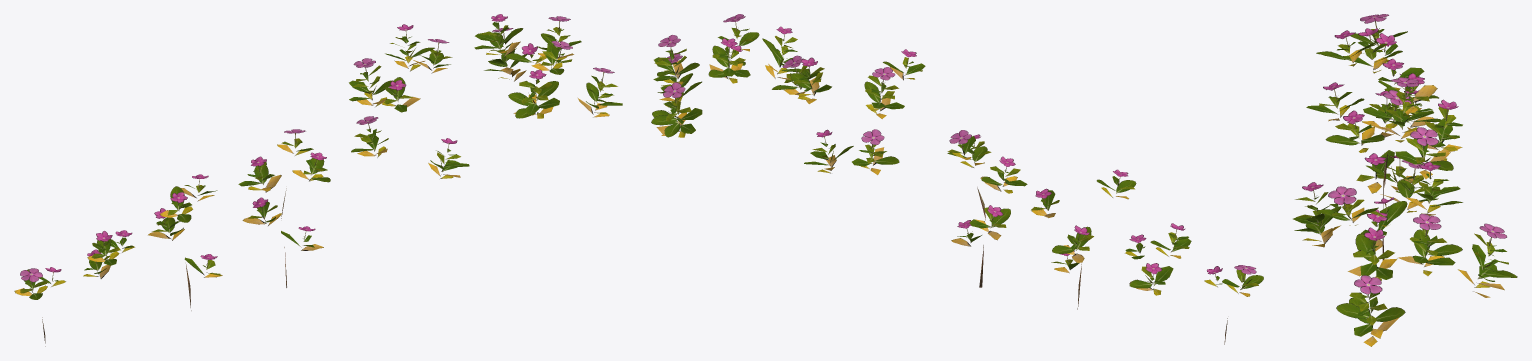
Rendered from ph_periwinkle_plant.glb.
3 views of the same model, side by side, from view 1: azimuth 30°, elevation 25°; view 2: azimuth 150°, elevation 25°; view 3: azimuth 270°, elevation 25° (orthographic). The views are drawn at different scales.
Visible parts, largest first — view 1: periwinkle_plant_01_LOD0, periwinkle_plant_02_LOD0, periwinkle_plant_03_LOD0, periwinkle_plant_04_LOD0, periwinkle_plant_05_LOD0, periwinkle_plant_06_LOD0; view 2: periwinkle_plant_01_LOD0, periwinkle_plant_02_LOD0, periwinkle_plant_03_LOD0, periwinkle_plant_04_LOD0, periwinkle_plant_05_LOD0, periwinkle_plant_06_LOD0; view 3: periwinkle_plant_01_LOD0, periwinkle_plant_02_LOD0, periwinkle_plant_03_LOD0, periwinkle_plant_04_LOD0, periwinkle_plant_05_LOD0, periwinkle_plant_06_LOD0.
Boxes of the visible parts, left/top/right/bottom form: periwinkle_plant_01_LOD0: left=474, top=14, right=622, bottom=118; periwinkle_plant_02_LOD0: left=349, top=24, right=469, bottom=178; periwinkle_plant_03_LOD0: left=238, top=129, right=330, bottom=287; periwinkle_plant_04_LOD0: left=148, top=174, right=222, bottom=310; periwinkle_plant_05_LOD0: left=83, top=230, right=134, bottom=278; periwinkle_plant_06_LOD0: left=14, top=267, right=65, bottom=346; periwinkle_plant_01_LOD0: left=651, top=14, right=805, bottom=137; periwinkle_plant_02_LOD0: left=772, top=49, right=925, bottom=174; periwinkle_plant_03_LOD0: left=947, top=130, right=1027, bottom=287; periwinkle_plant_04_LOD0: left=1031, top=169, right=1136, bottom=309; periwinkle_plant_05_LOD0: left=1125, top=223, right=1191, bottom=295; periwinkle_plant_06_LOD0: left=1204, top=265, right=1263, bottom=344; periwinkle_plant_01_LOD0: left=1293, top=161, right=1517, bottom=346; periwinkle_plant_02_LOD0: left=1306, top=77, right=1462, bottom=280; periwinkle_plant_03_LOD0: left=1325, top=90, right=1421, bottom=260; periwinkle_plant_04_LOD0: left=1316, top=30, right=1441, bottom=208; periwinkle_plant_05_LOD0: left=1343, top=28, right=1438, bottom=109; periwinkle_plant_06_LOD0: left=1350, top=14, right=1407, bottom=63.
Size of the model in its own units: 1.24 by 0.4107 by 0.3207.
1 material, 1 textured.
